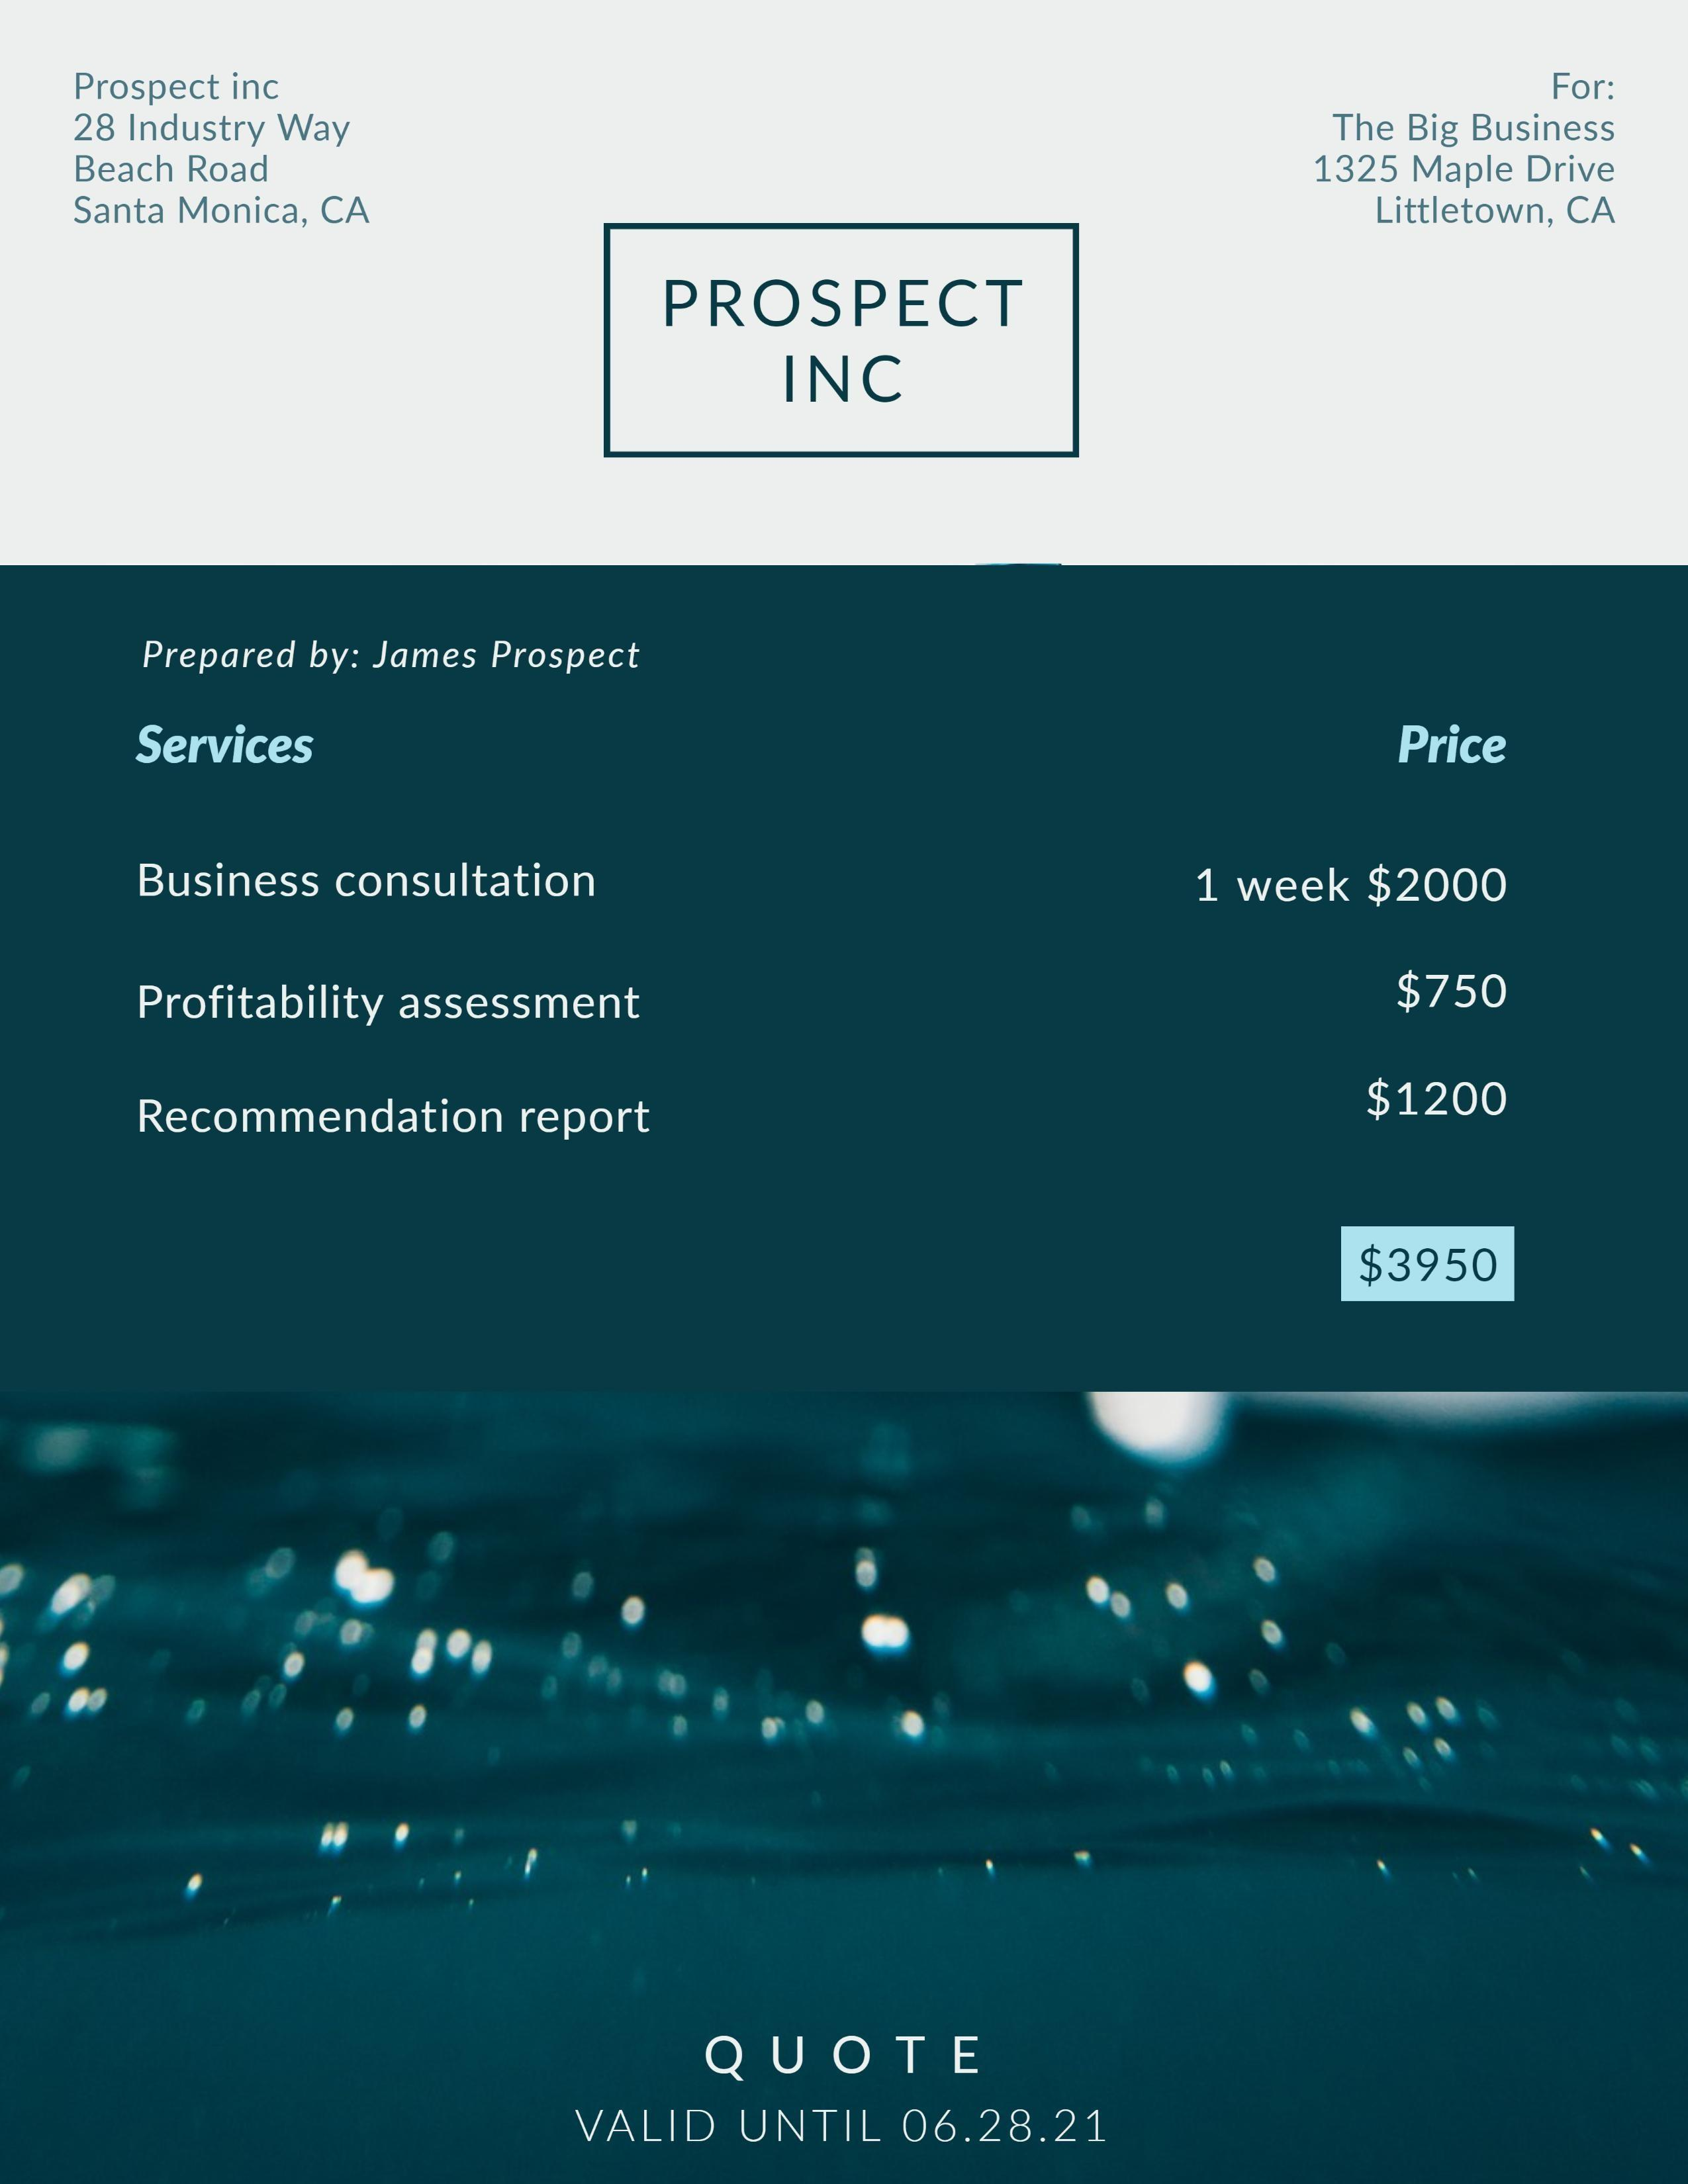ROI: (126, 706, 1548, 1162), (527, 1995, 1132, 2162), (1286, 53, 1635, 259), (53, 69, 393, 251), (1340, 1226, 1517, 1310)
